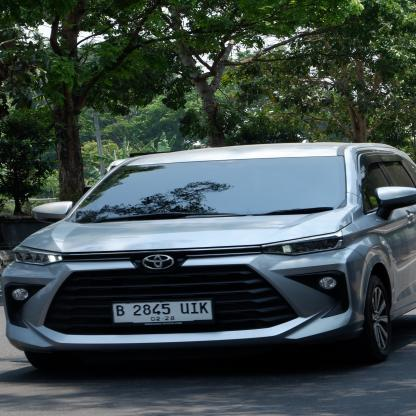Plat-Nomor: (105, 298, 218, 326)
